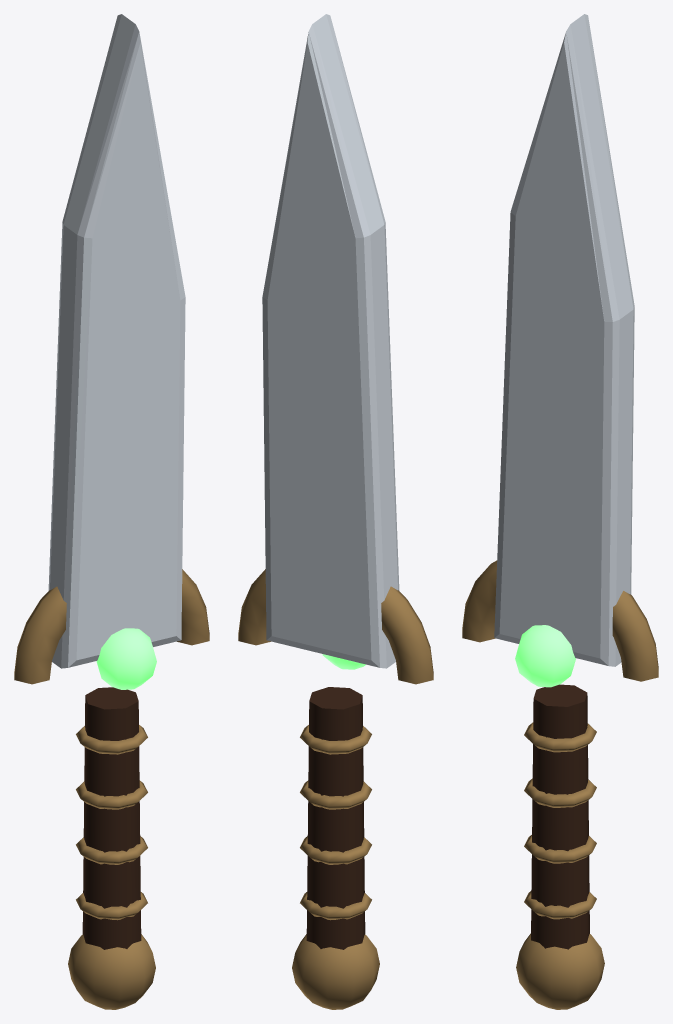
Rendered from dagger_f0_b60ddf68.glb.
3 views of the same model, side by side, from view 1: azimuth 30°, elevation 25°; view 2: azimuth 150°, elevation 25°; view 3: azimuth 330°, elevation 25° (orthographic).
Visible parts, largest first — view 1: m0_ow80_, m3_ow80_, m2_ow80_, m1_; view 2: m0_ow80_, m3_ow80_, m2_ow80_; view 3: m0_ow80_, m3_ow80_, m2_ow80_, m1_.
Boxes of the visible parts, bbox=[...] form: m0_ow80_: bbox=[48, 14, 185, 668]; m3_ow80_: bbox=[14, 569, 209, 1009]; m2_ow80_: bbox=[82, 687, 141, 949]; m1_: bbox=[96, 628, 156, 689]; m0_ow80_: bbox=[262, 14, 399, 668]; m3_ow80_: bbox=[238, 569, 433, 1009]; m2_ow80_: bbox=[306, 687, 365, 949]; m0_ow80_: bbox=[494, 14, 634, 666]; m3_ow80_: bbox=[462, 560, 658, 1009]; m2_ow80_: bbox=[531, 684, 589, 949]; m1_: bbox=[515, 625, 575, 687].
Size of the model in its own units: 0.244 by 1.17 by 0.1107.
